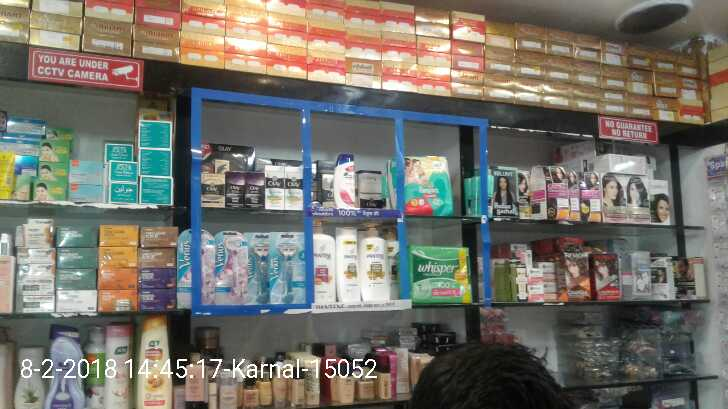venus: (178, 230, 217, 300), (273, 231, 306, 304), (217, 234, 247, 300), (247, 234, 273, 304)
